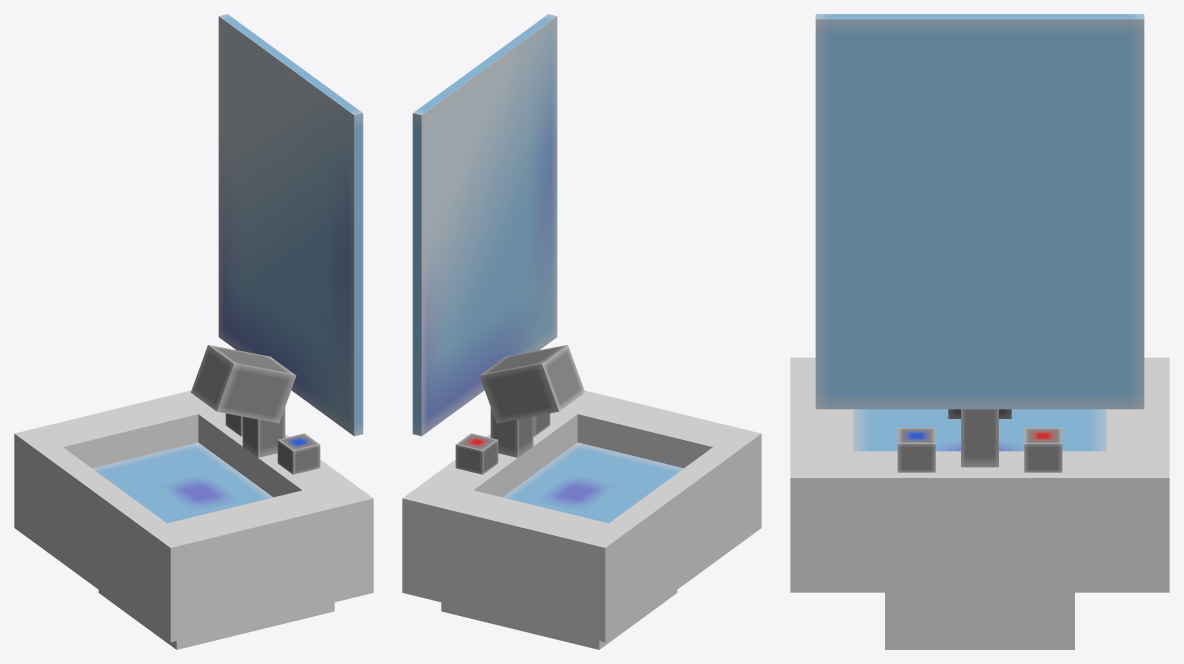
Rendered from Bathroom Sink.fbx.
The picture shows the model from 3 angles, left to right: view 1: azimuth 30°, elevation 25°; view 2: azimuth 150°, elevation 25°; view 3: azimuth 270°, elevation 25°; orthographic projection. The views are drawn at different scales.
Parts seen in each view (by area): view 1: cube; view 2: cube; view 3: cube.
Boxes of the visible parts, <box> form: cube: <box>14,14,373,649</box>; cube: <box>402,14,761,649</box>; cube: <box>790,14,1169,649</box>.
Size of the model in its own units: 14.06 by 34.38 by 18.75.
Materials: 1 (1 with a texture image).
